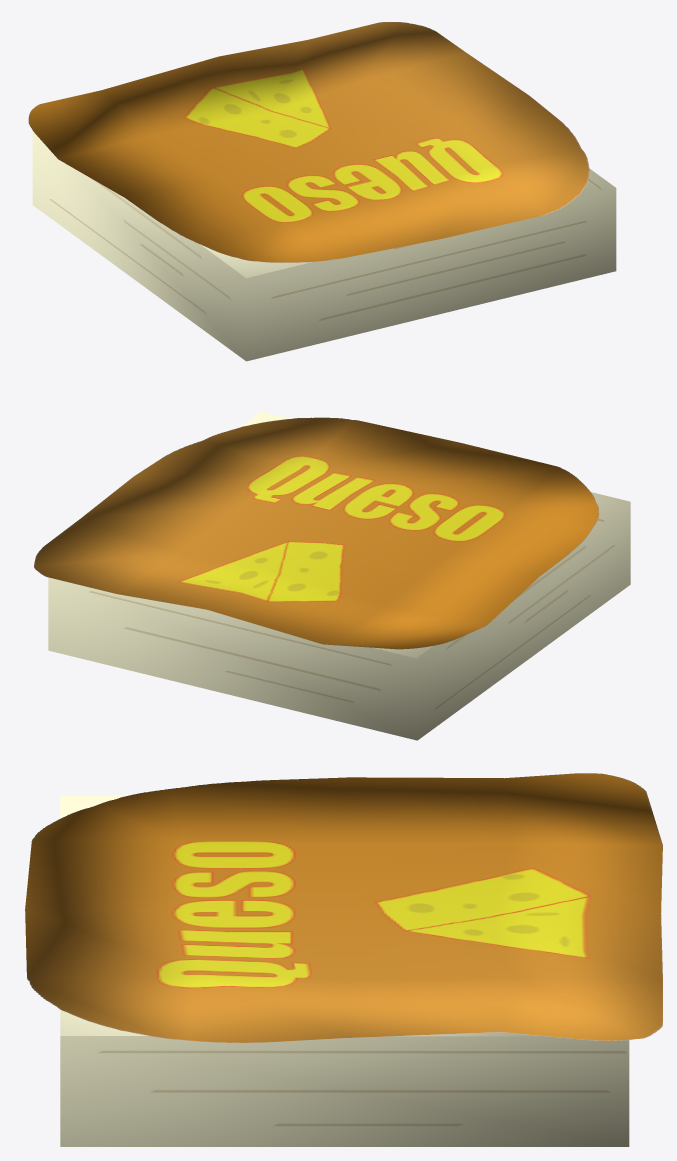
The model's file is Queso.fbx.
The picture shows the model from 3 angles, top to bottom: view 1: azimuth 30°, elevation 25°; view 2: azimuth 150°, elevation 25°; view 3: azimuth 270°, elevation 25°; orthographic projection. The views are drawn at different scales.
Visible parts, largest first — view 1: Cube.001; view 2: Cube.001; view 3: Cube.001.
Part boxes in pixels (<box>): Cube.001: <box>28,22,616,361</box>; Cube.001: <box>34,411,630,740</box>; Cube.001: <box>25,773,662,1146</box>.
Size of the model in its own units: 311 by 67.42 by 310.
Materials: 1 (1 with a texture image).
